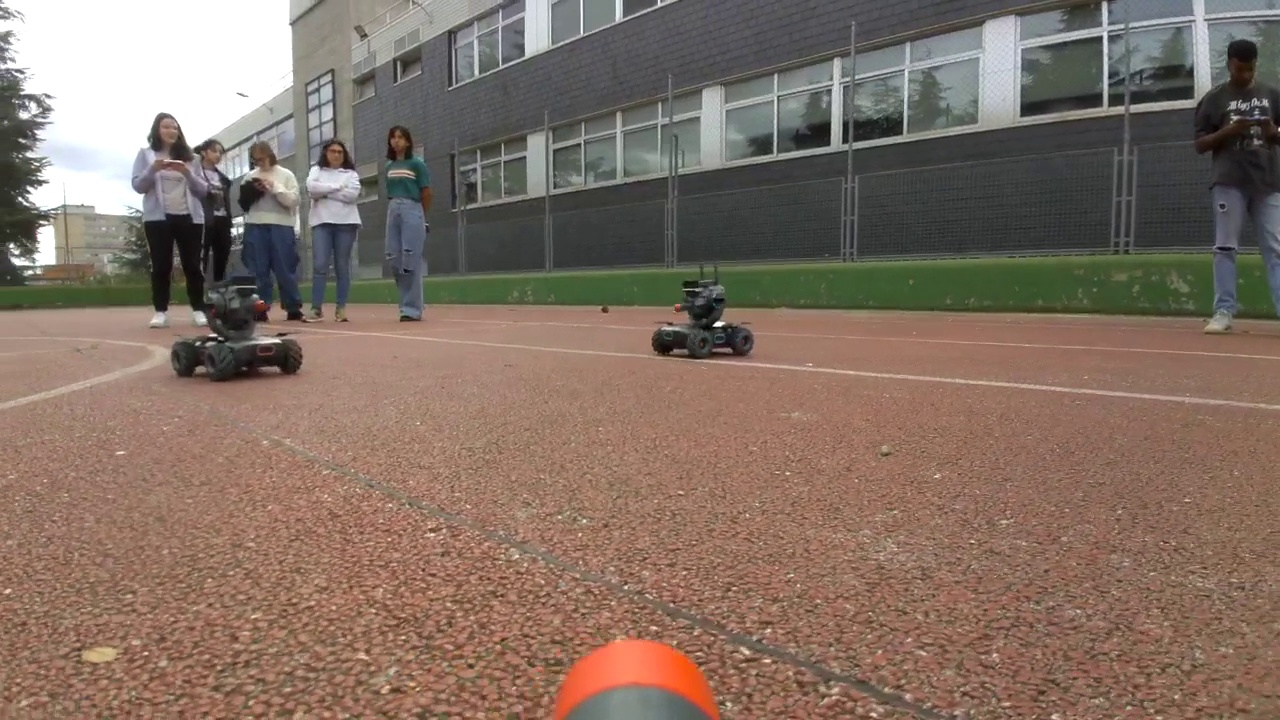robot: (169, 276, 302, 379), (653, 279, 754, 357)
